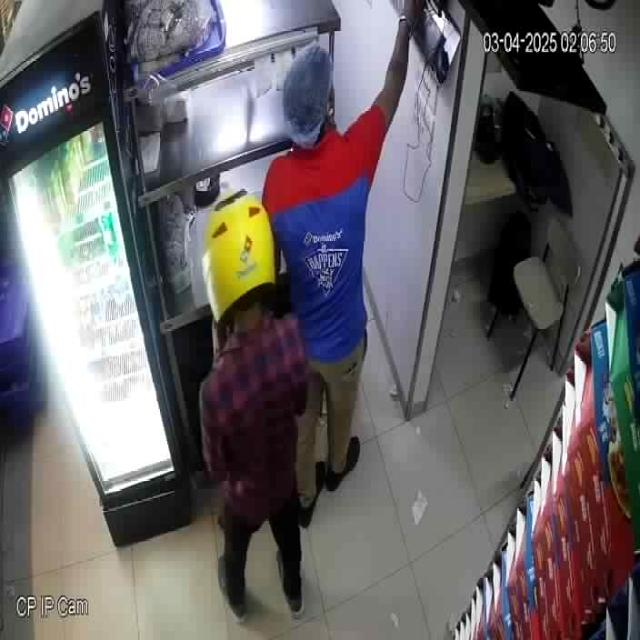helmet: (201, 191, 276, 330)
no_helmet: (282, 45, 337, 148)
